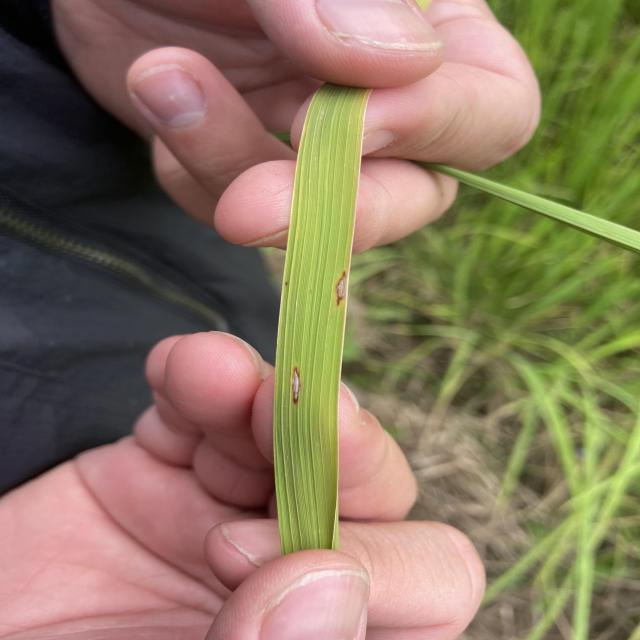Dao on: (335, 271, 348, 306), (290, 367, 300, 404)
